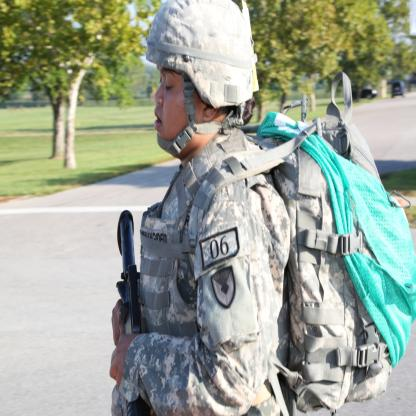Helmet: (145, 6, 265, 154)
